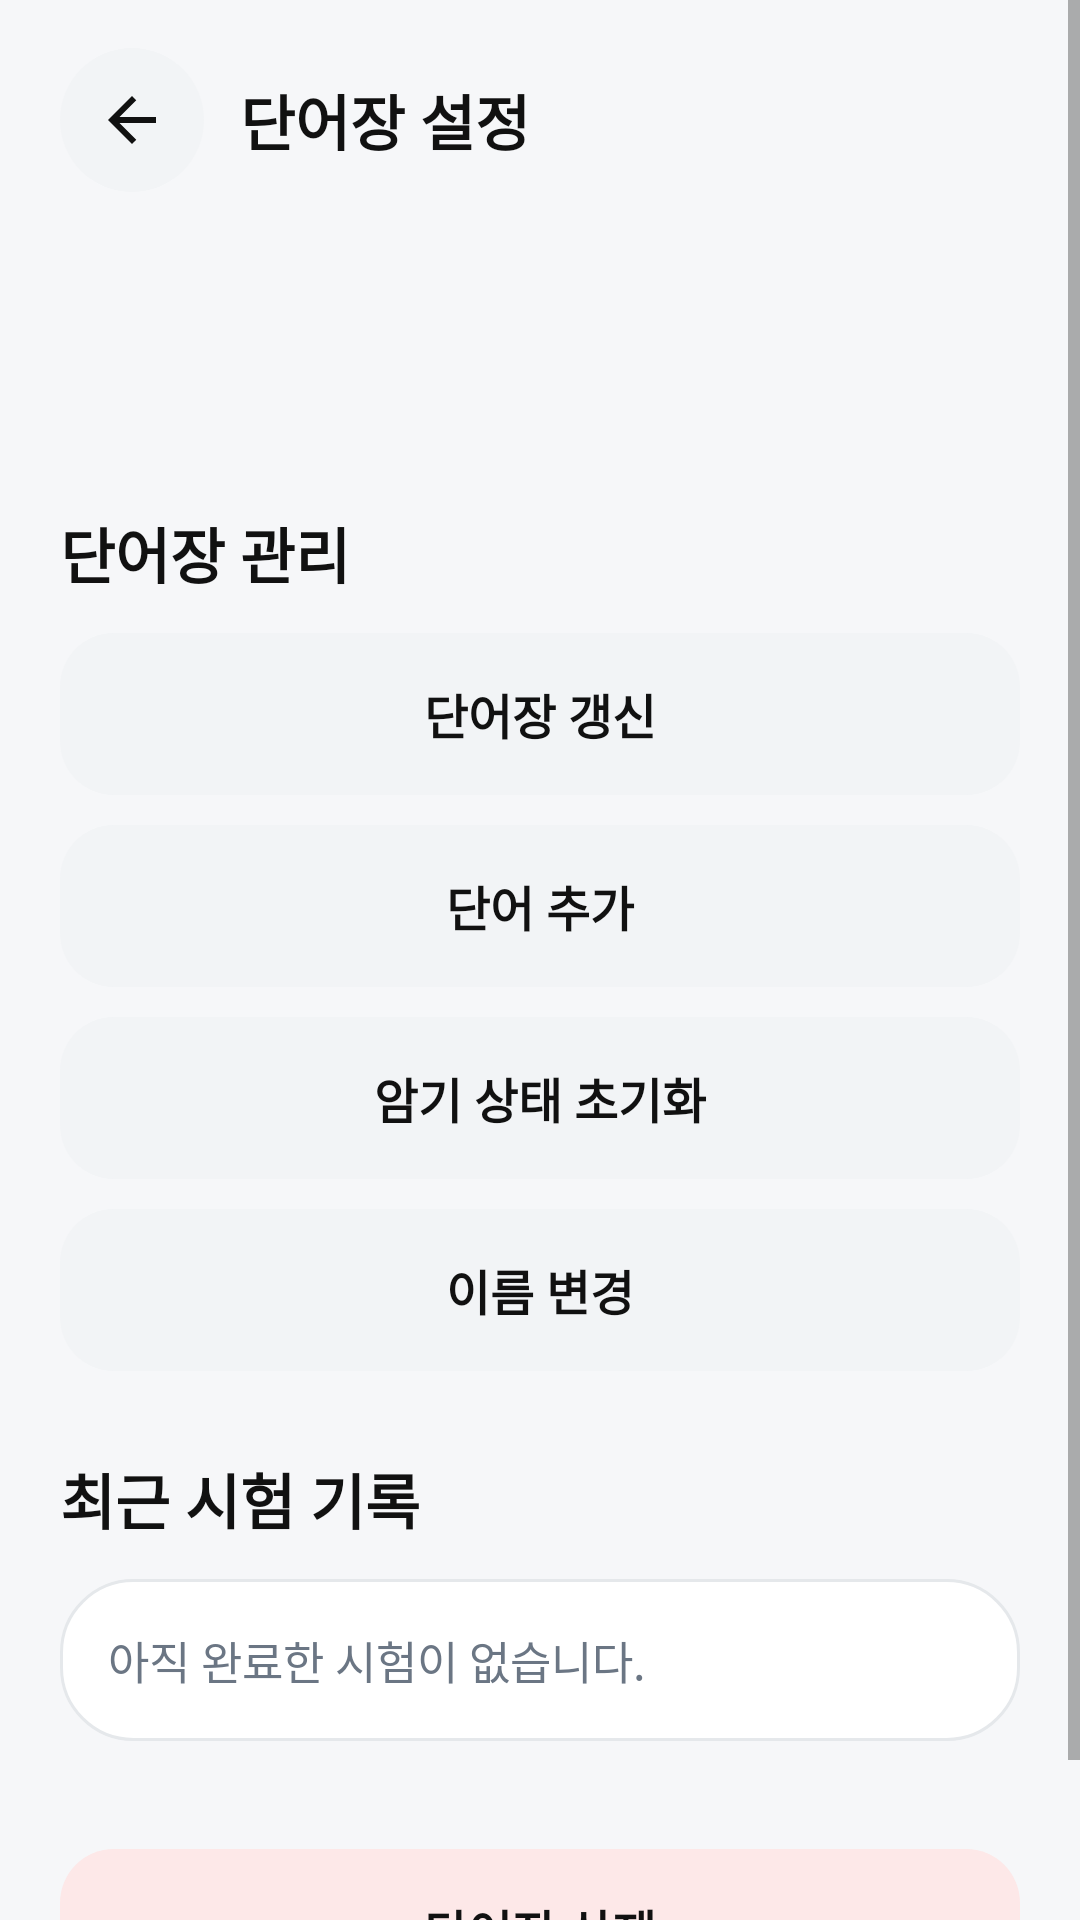

Screen size 1080×1920. Icon name, then its box in pixels as (left=x1, top=y1, right=x2, bottom=y2):
뒤로 가기: (left=108, top=96, right=156, bottom=144)
